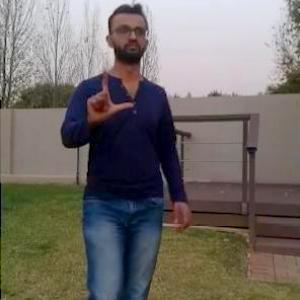land_hand: (84, 60, 136, 122)
